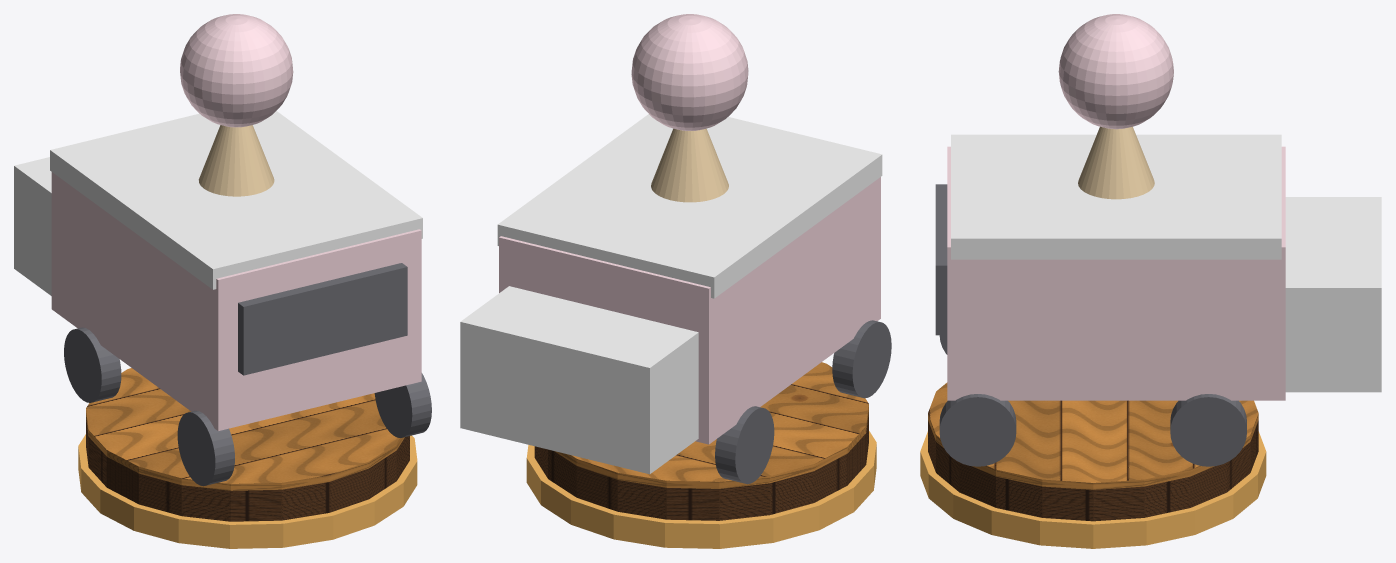
File: IceCreamTruck.glb
3 views of the same model, side by side, from view 1: azimuth 30°, elevation 25°; view 2: azimuth 150°, elevation 25°; view 3: azimuth 270°, elevation 25° (orthographic). The views are drawn at different scales.
Visible parts, largest first — view 1: Cube, Cube.002, pedestal, Cube.003, rim, Sphere, Cube.001, Cone, Cylinder, Cylinder.001, Cylinder.002; view 2: Cube.002, Cube, Cube.001, pedestal, rim, Sphere, Cone, Cylinder, Cylinder.001; view 3: Cube, Cube.002, pedestal, Cube.001, rim, Sphere, Cylinder.002, Cylinder.003, Cone, Cube.003.
Part boxes in pixels (x1=…): Cube: x1=51, y1=172, x2=421, y2=431; Cube.002: x1=50, y1=111, x2=422, y2=289; pedestal: x1=86, y1=368, x2=409, y2=521; Cube.003: x1=238, y1=263, x2=407, y2=375; rim: x1=78, y1=434, x2=417, y2=548; Sphere: x1=180, y1=14, x2=293, y2=127; Cube.001: x1=14, y1=157, x2=51, y2=295; Cone: x1=198, y1=125, x2=274, y2=196; Cylinder: x1=177, y1=410, x2=234, y2=486; Cylinder.001: x1=64, y1=327, x2=121, y2=402; Cylinder.002: x1=374, y1=373, x2=431, y2=437; Cube.002: x1=497, y1=114, x2=882, y2=298; Cube: x1=499, y1=177, x2=880, y2=444; Cube.001: x1=460, y1=286, x2=698, y2=474; pedestal: x1=534, y1=362, x2=868, y2=520; rim: x1=526, y1=431, x2=876, y2=548; Sphere: x1=631, y1=14, x2=748, y2=130; Cone: x1=651, y1=128, x2=728, y2=202; Cylinder: x1=832, y1=320, x2=891, y2=398; Cylinder.001: x1=715, y1=406, x2=774, y2=484; Cube: x1=947, y1=146, x2=1285, y2=400; Cube.002: x1=951, y1=134, x2=1281, y2=259; pedestal: x1=928, y1=382, x2=1258, y2=521; Cube.001: x1=1285, y1=197, x2=1381, y2=392; rim: x1=920, y1=431, x2=1266, y2=548; Sphere: x1=1058, y1=14, x2=1173, y2=129; Cylinder.002: x1=939, y1=394, x2=1016, y2=466; Cylinder.003: x1=1170, y1=394, x2=1246, y2=466; Cone: x1=1078, y1=126, x2=1154, y2=199; Cube.003: x1=935, y1=184, x2=947, y2=335.
Size of the model in its own units: 0.9 by 1.31 by 1.2.
Materials: 7 (2 with a texture image).
